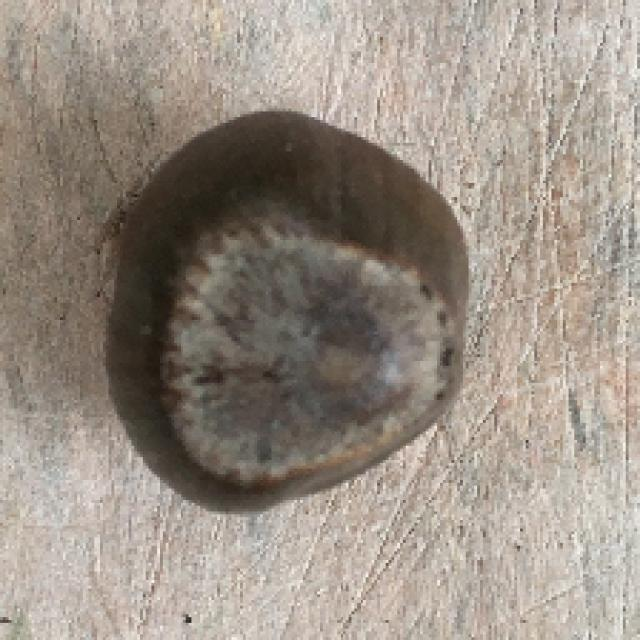damagedHazelnut: (90, 106, 474, 520)
